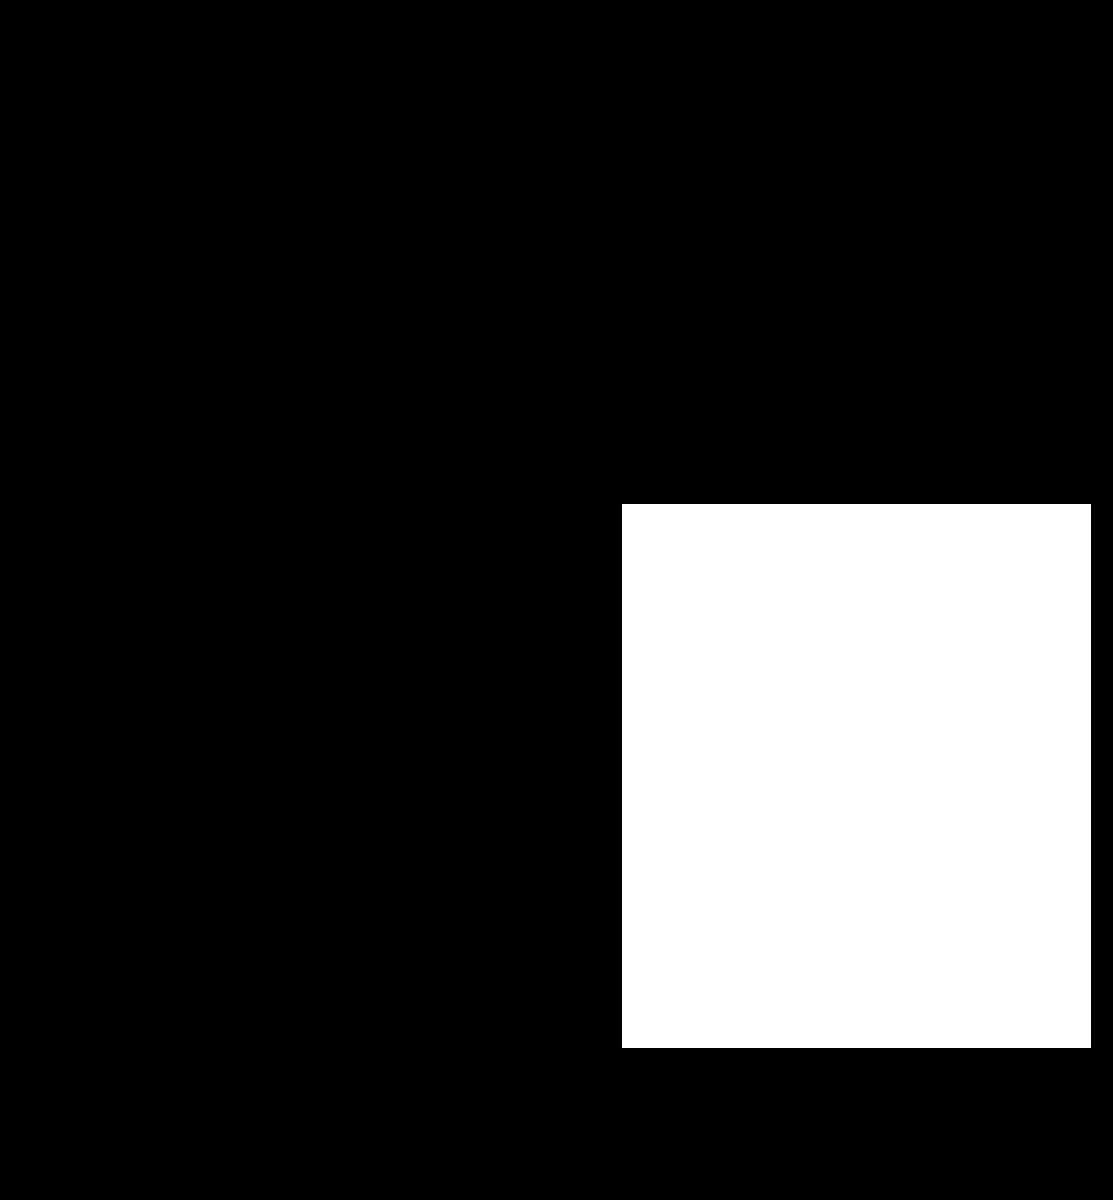table: (622, 504, 1091, 1048)
